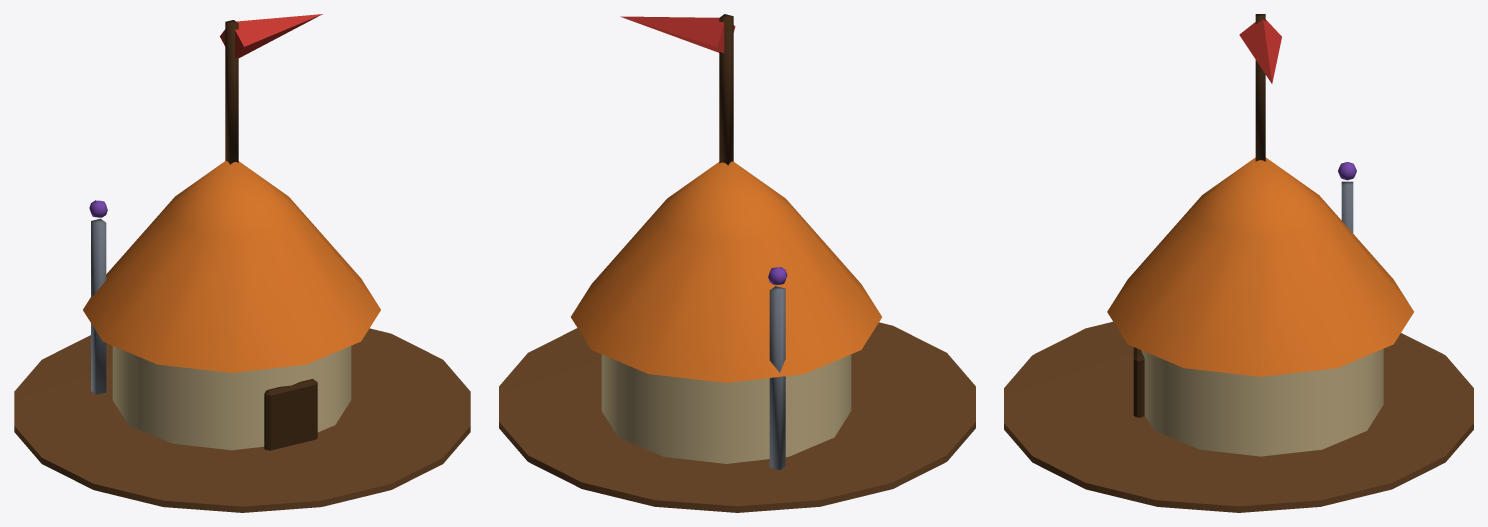
3 views of the same model, side by side, from view 1: azimuth 30°, elevation 25°; view 2: azimuth 150°, elevation 25°; view 3: azimuth 270°, elevation 25° (orthographic). The views are drawn at different scales.
Visible parts, largest first — view 1: vila_0_base; view 2: vila_0_base; view 3: vila_0_base.
Boxes of the visible parts, left/top/right/bottom form: vila_0_base: left=14, top=14, right=470, bottom=512; vila_0_base: left=499, top=14, right=975, bottom=512; vila_0_base: left=1004, top=14, right=1473, bottom=512.
Bounding box in the file's own units: 1.32 × 1.21 × 1.3.
